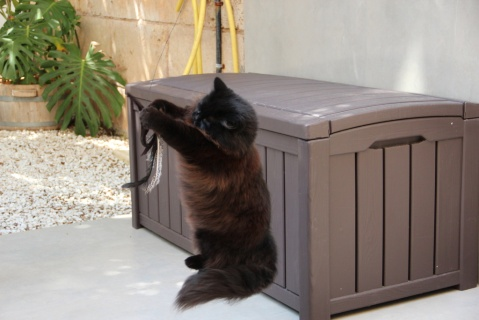Cat: (136, 72, 277, 314)
